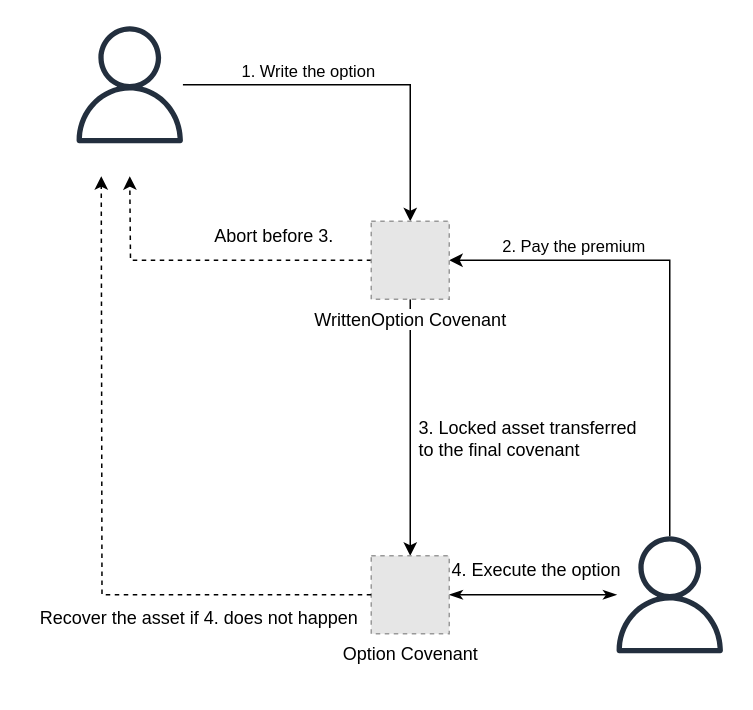
Image size: 753x710. Some labels were removed from this diagram. Grey dashed boxes stand in for pictures. Here are the shapes that lost their labels. From the top down, the centre of each, then its label:
At point (129, 84): "Option Writer".
At point (669, 594): "Option Buyer".
